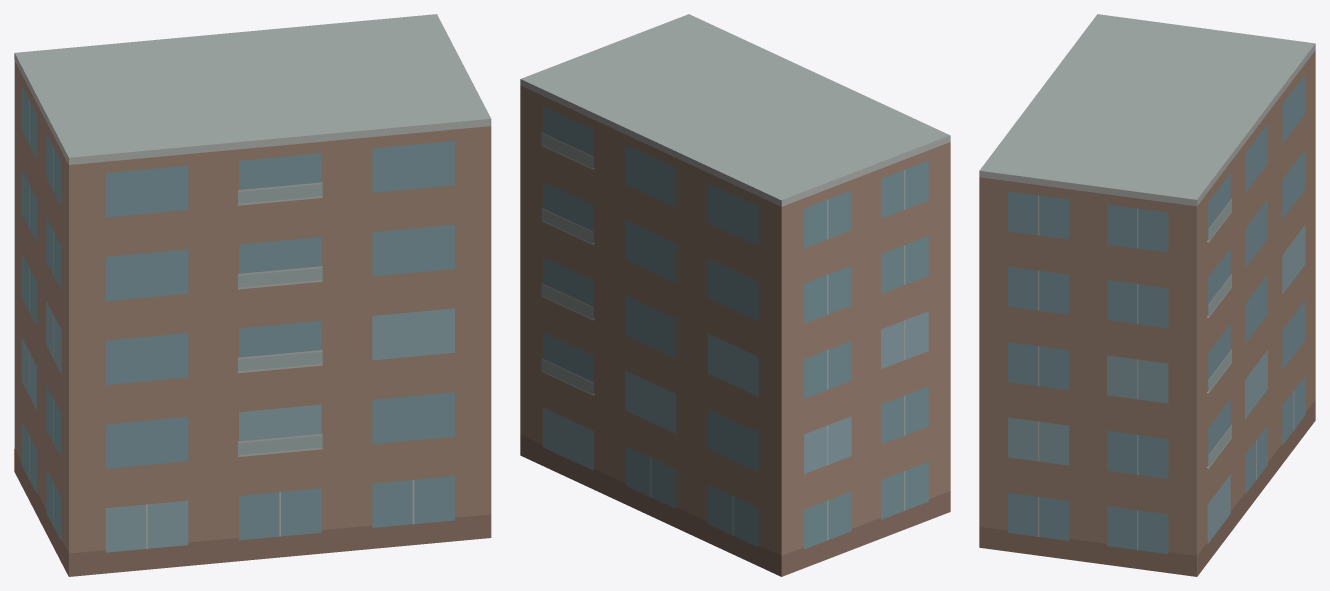
Rendered from survey-upis-32982935.glb.
3 views of the same model, side by side, from view 1: azimuth 30°, elevation 25°; view 2: azimuth 150°, elevation 25°; view 3: azimuth 270°, elevation 25° (orthographic). The views are drawn at different scales.
Parts seen in each view (by area): view 1: survey-upis-32982935.tmp; view 2: survey-upis-32982935.tmp; view 3: survey-upis-32982935.tmp.
Part boxes in pixels (box(x1,y1,x2,y2)): survey-upis-32982935.tmp: box(14, 14, 491, 576); survey-upis-32982935.tmp: box(520, 14, 950, 576); survey-upis-32982935.tmp: box(979, 14, 1315, 576).
Size of the model in its own units: 14.98 by 14.15 by 11.45.
